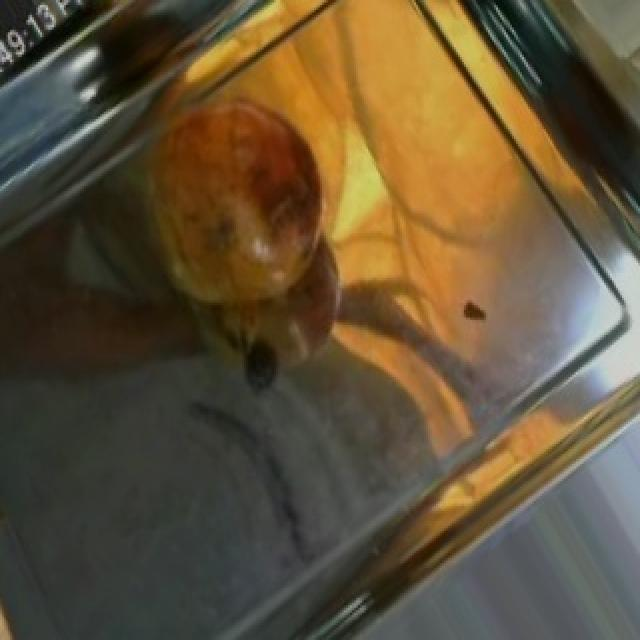fruit: (130, 72, 354, 335)
